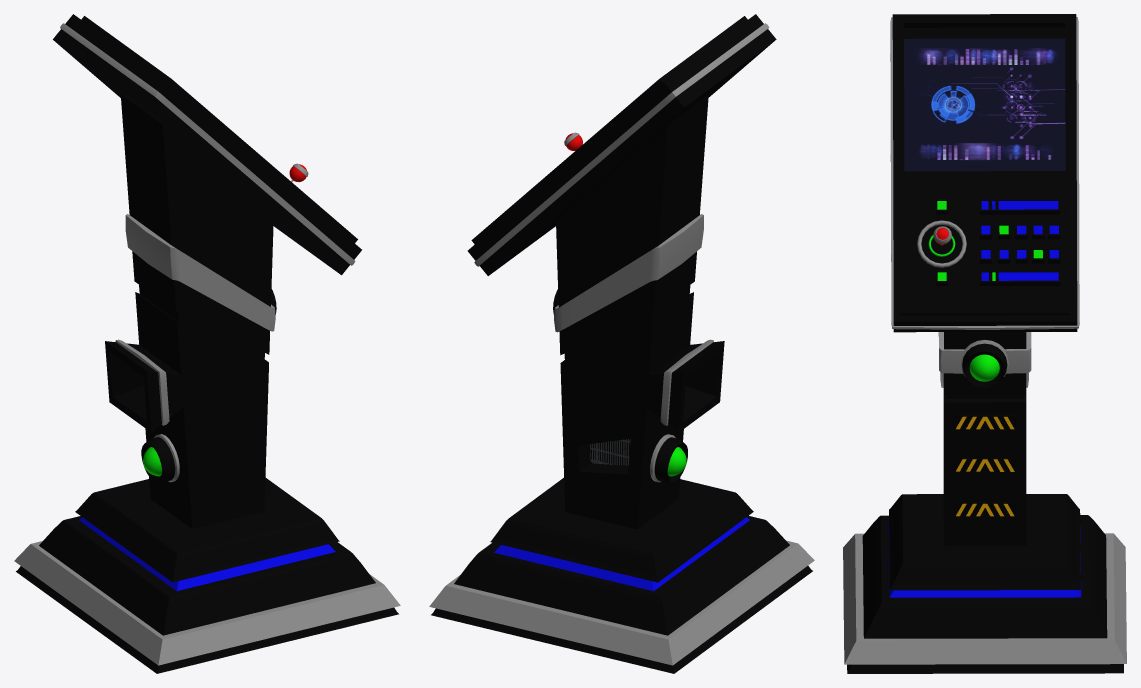
Rendered from fbxPanel.fbx.
3 renders of one model, left to right at view 1: azimuth 30°, elevation 25°; view 2: azimuth 150°, elevation 25°; view 3: azimuth 270°, elevation 25°, orthographic.
Visible parts, largest first — view 1: structure, light1; view 2: structure, light1; view 3: structure, buttons, fence, light, buttons1.
Boxes of the visible parts, x1,y1,x2,y2 form: structure: (14,14,400,673); light1: (141,434,179,482); structure: (429,14,814,673); light1: (650,434,687,482); structure: (843,14,1126,673); buttons: (935,199,1060,286); fence: (955,415,1015,516); light: (961,340,1009,387); buttons1: (917,220,966,267).
Bounding box in the file's own units: 1.64 × 3.64 × 1.68.
Materials: 8 (3 with a texture image).
